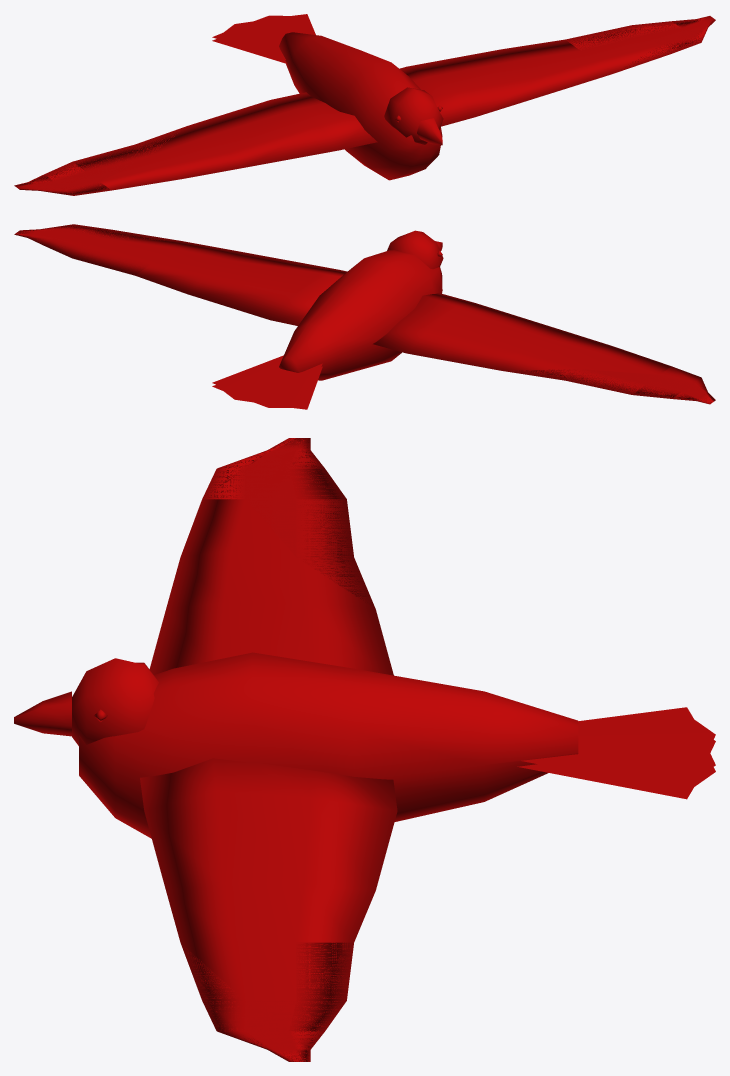
The model's file is chough.glb.
The picture shows the model from 3 angles, top to bottom: view 1: azimuth 30°, elevation 25°; view 2: azimuth 150°, elevation 25°; view 3: azimuth 270°, elevation 25°; orthographic projection. The views are drawn at different scales.
Parts seen in each view (by area): view 1: wing, body; view 2: wing, body; view 3: wing, body.
Part boxes in pixels (left/top/right/bottom): wing: left=14, top=16, right=715, bottom=195; body: left=212, top=14, right=443, bottom=180; wing: left=14, top=224, right=715, bottom=404; body: left=212, top=230, right=443, bottom=409; wing: left=140, top=438, right=397, bottom=1061; body: left=14, top=652, right=715, bottom=838.
Bounding box in the file's own units: 0.7969 × 0.1094 × 0.3789.
